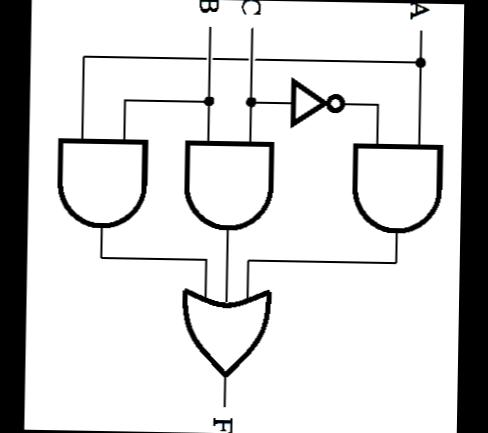and: (178, 134, 282, 236), (50, 132, 154, 234), (342, 138, 450, 236)
not: (285, 72, 348, 132)
or: (176, 282, 276, 382)
